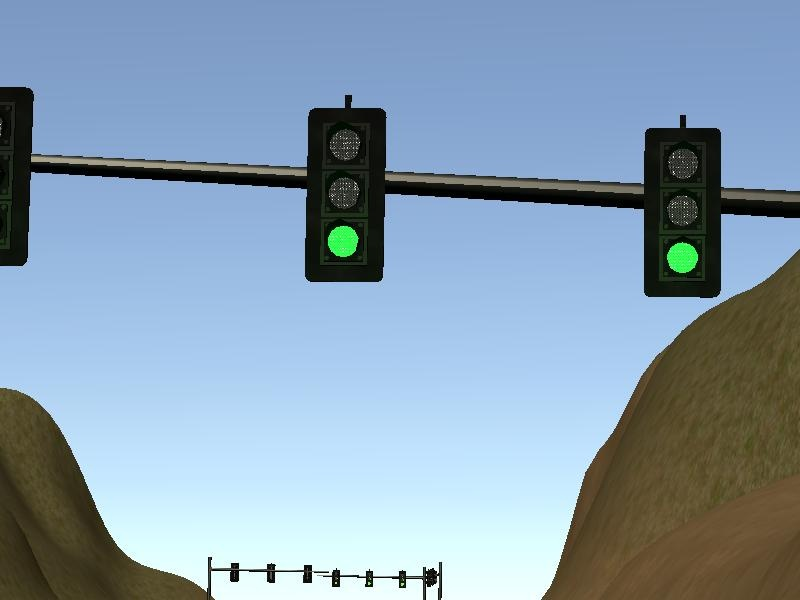green: (642, 126, 722, 302), (309, 105, 384, 276)
